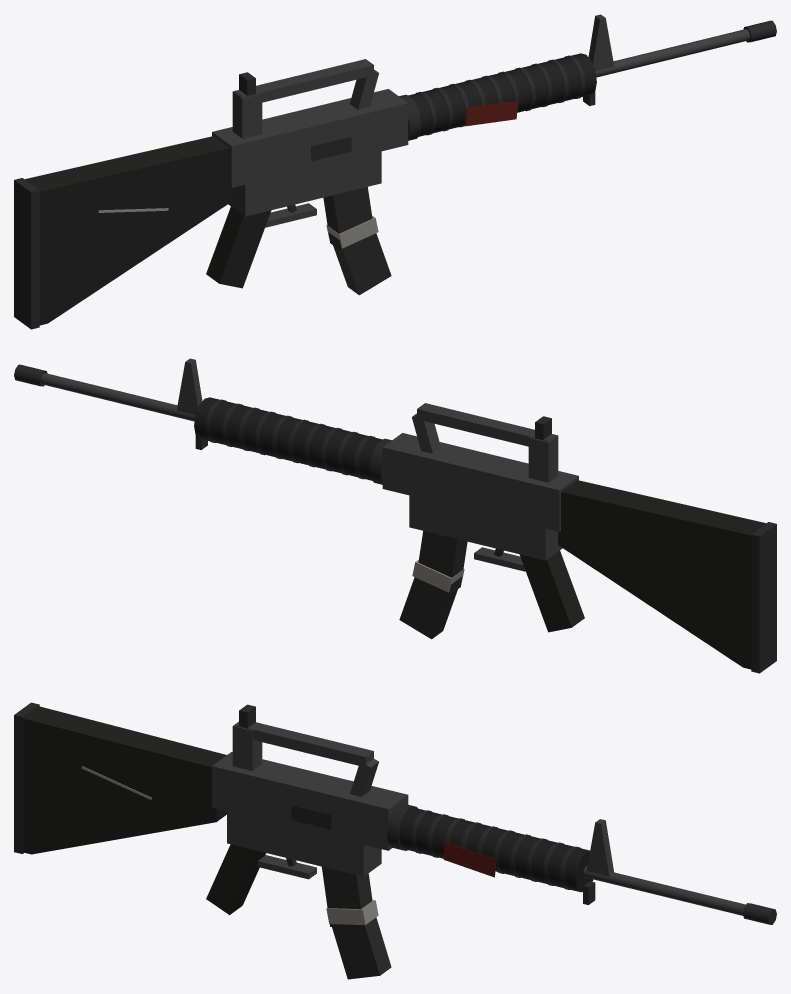
File: rifle-de-asalto.glb
3 views of the same model, one above another, from view 1: azimuth 30°, elevation 25°; view 2: azimuth 150°, elevation 25°; view 3: azimuth 330°, elevation 25° (orthographic).
Visible parts, largest first — view 1: culata, cajon_superior, guardamanos, cajon_inferior, cantonera, empunadura_m, asa_superior, cargador_b, cargador_a, canon, asa_poste_tras, mira_delantera (+5 smaller); view 2: culata, cajon_superior, guardamanos, cajon_inferior, cantonera, empunadura_m, asa_superior, cargador_b, cargador_a, canon, asa_poste_tras, mira_delantera (+3 smaller); view 3: culata, cajon_superior, guardamanos, cajon_inferior, cargador_b, empunadura_m, asa_superior, canon, cargador_a, cantonera, asa_poste_tras, mira_delantera (+7 smaller).
Boxes of the visible parts, x1,y1,x2,y2 form: culata: [25, 136, 232, 325]; cajon_superior: [212, 89, 408, 187]; guardamanos: [408, 53, 596, 136]; cajon_inferior: [228, 151, 381, 216]; cantonera: [14, 178, 39, 329]; empunadura_m: [206, 206, 271, 288]; asa_superior: [235, 59, 373, 102]; cargador_b: [333, 233, 391, 295]; cargador_a: [323, 187, 375, 251]; canon: [595, 29, 749, 77]; asa_poste_tras: [232, 91, 262, 138]; mira_delantera: [588, 14, 614, 70]; culata: [558, 480, 765, 669]; cajon_superior: [382, 433, 578, 531]; guardamanos: [194, 397, 382, 480]; cajon_inferior: [409, 495, 562, 560]; cantonera: [751, 522, 776, 673]; empunadura_m: [519, 550, 584, 632]; asa_superior: [417, 403, 555, 446]; cargador_b: [399, 577, 457, 639]; cargador_a: [415, 531, 467, 595]; canon: [41, 373, 195, 421]; asa_poste_tras: [528, 435, 558, 482]; mira_delantera: [176, 358, 202, 414]; culata: [23, 706, 226, 854]; cajon_superior: [212, 752, 408, 850]; guardamanos: [399, 808, 593, 892]; cajon_inferior: [227, 811, 381, 876]; cargador_b: [332, 917, 391, 979]; empunadura_m: [206, 844, 265, 914]; asa_superior: [235, 722, 373, 767]; canon: [583, 866, 745, 915]; cargador_a: [322, 866, 372, 929]; cantonera: [14, 702, 39, 853]; asa_poste_tras: [232, 721, 262, 770]; mira_delantera: [586, 819, 613, 876].
Size of the model in its own units: 2.64 by 0.8086 by 0.14.
